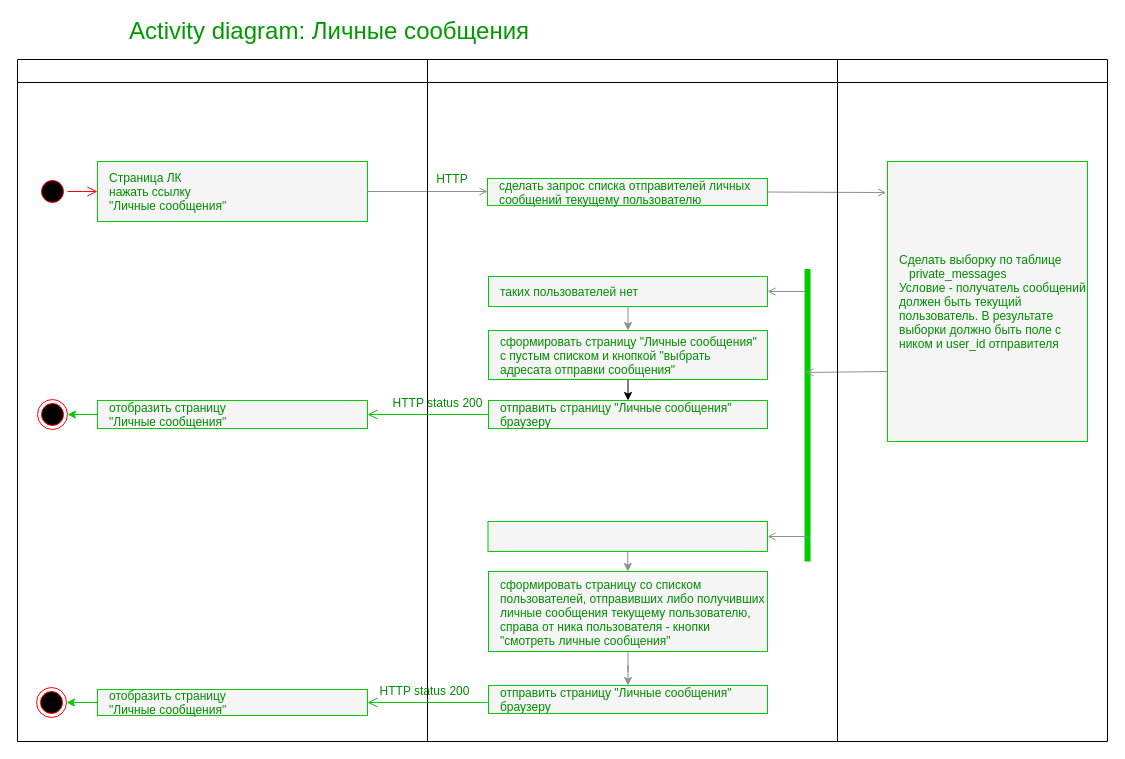
This 1125x759 diagram has some shape labels left out. The shapes that lost their labels are listed below. From the top down, each one's box as (x1, y1, x2, y2) in pixels, then its label:
(16, 58, 428, 742): Браузер
(426, 58, 838, 742): Tomcat
(836, 58, 1108, 742): PostgreSQL
(487, 520, 768, 552): есть список таких пользователей
